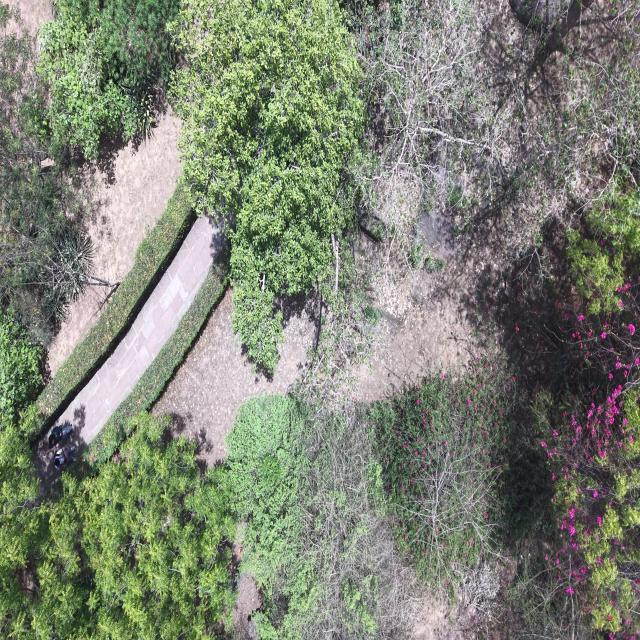DRY_AREA: (48, 106, 180, 373), (344, 216, 497, 401), (153, 289, 312, 466), (153, 290, 313, 465), (153, 291, 312, 465), (154, 291, 313, 465), (346, 215, 484, 401), (166, 304, 306, 448), (352, 262, 477, 401), (352, 295, 471, 401), (410, 557, 514, 639), (410, 592, 471, 639), (231, 568, 261, 639), (232, 573, 261, 639), (1, 0, 51, 36), (411, 598, 448, 639)
PATHWAYS: (54, 216, 223, 455)
VEGETATION_TREE: (0, 0, 639, 639), (356, 2, 639, 633), (171, 2, 639, 368), (3, 369, 511, 636), (4, 369, 511, 636), (477, 2, 639, 637), (2, 396, 410, 639), (356, 1, 639, 282), (225, 362, 512, 637), (0, 306, 233, 636), (0, 315, 234, 639), (172, 1, 364, 370), (495, 195, 639, 636), (0, 0, 178, 344), (1, 413, 233, 639), (536, 187, 639, 634), (225, 395, 408, 639), (62, 413, 233, 639), (37, 184, 193, 420), (536, 313, 639, 632), (255, 2, 362, 308), (370, 362, 511, 590), (85, 247, 227, 465), (0, 35, 91, 343), (302, 413, 411, 636), (37, 0, 179, 161), (225, 395, 318, 639), (293, 251, 378, 411), (483, 529, 602, 639), (0, 311, 39, 634), (0, 405, 48, 636), (565, 183, 639, 313), (498, 394, 554, 552), (566, 229, 623, 313), (0, 313, 39, 411), (586, 188, 639, 253)
